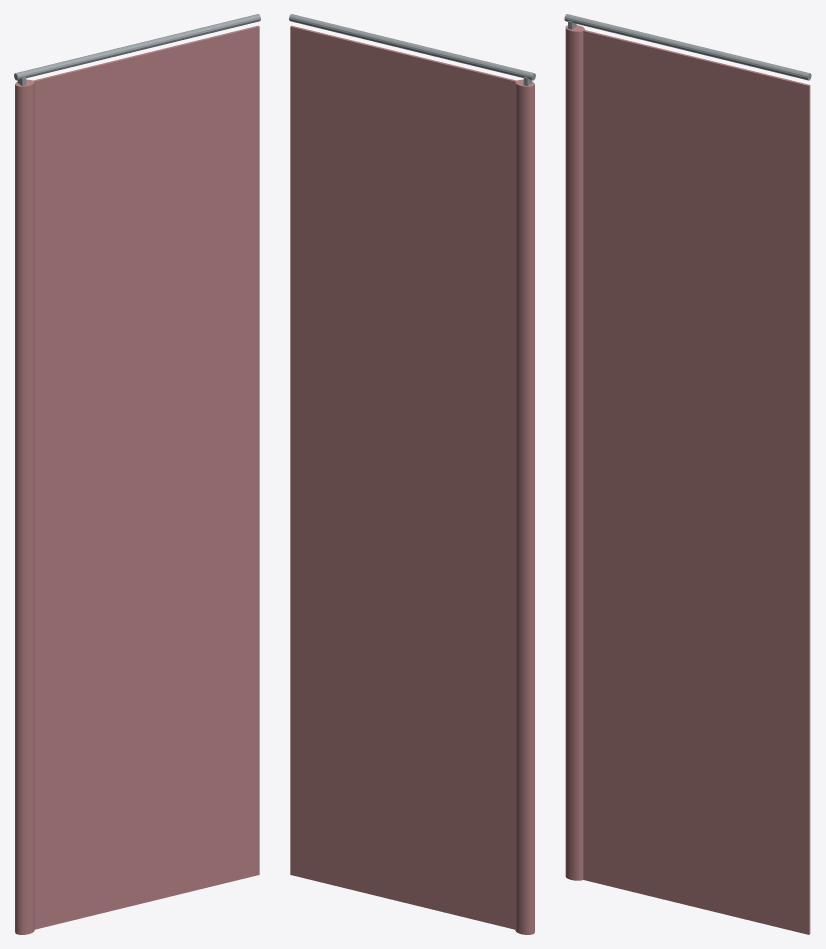
3 renders of one model, left to right at view 1: azimuth 30°, elevation 25°; view 2: azimuth 150°, elevation 25°; view 3: azimuth 330°, elevation 25°, orthographic.
Parts seen in each view (by area): view 1: Backing, Fold, Rod; view 2: Backing, Fold, Rod; view 3: Backing, Fold, Rod.
Part boxes in pixels (x1,y1,x2,y2): Backing: (15, 25, 259, 933); Fold: (15, 79, 34, 934); Rod: (14, 14, 260, 80); Backing: (290, 25, 534, 933); Fold: (515, 79, 534, 934); Rod: (289, 14, 535, 80); Backing: (566, 25, 810, 934); Fold: (565, 25, 584, 880); Rod: (564, 14, 811, 80).
Bounding box in the file's own units: 0.6 × 2.03 × 0.032.
